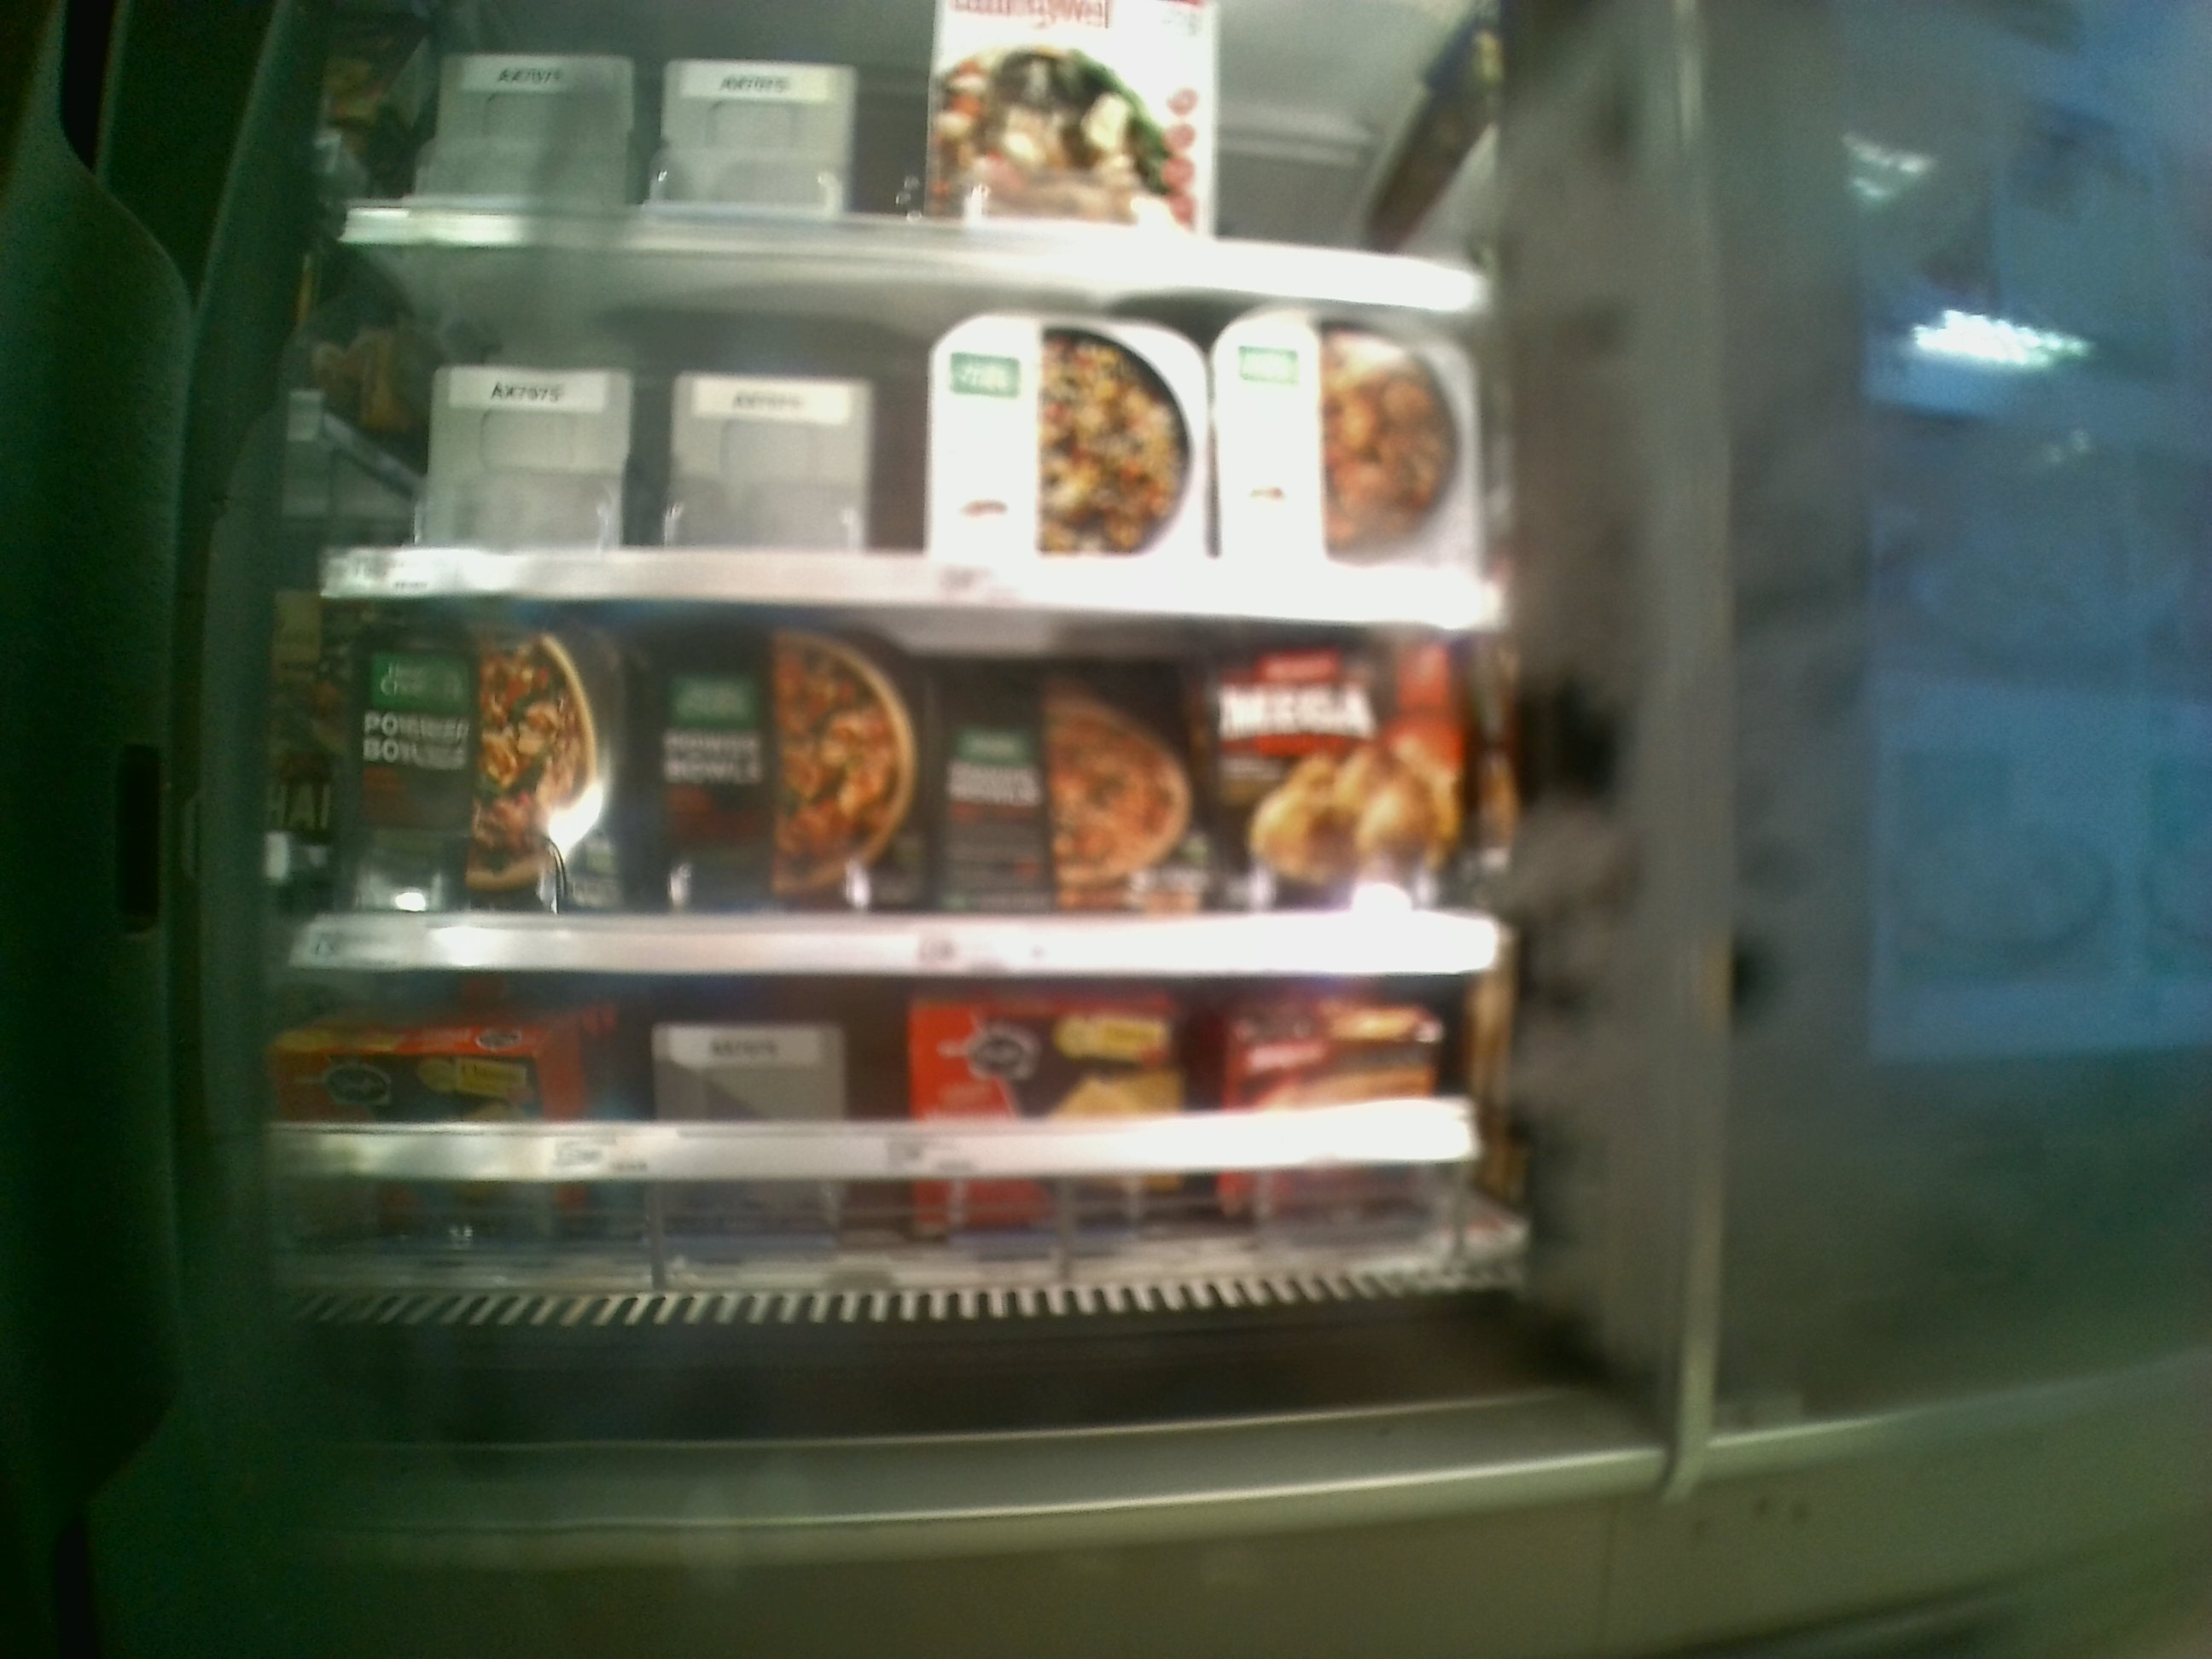Shelf: (286, 591, 1529, 972), (279, 967, 1529, 1345), (310, 227, 1489, 620)
